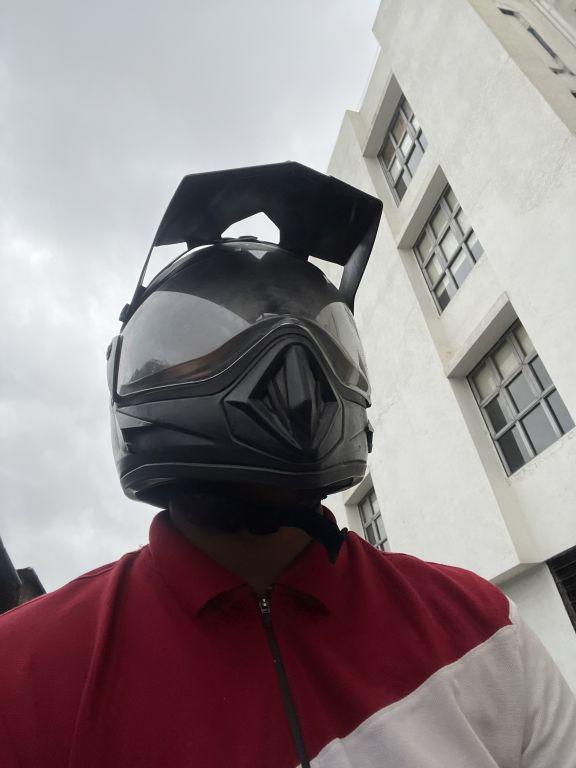helmet: (85, 147, 392, 529)
